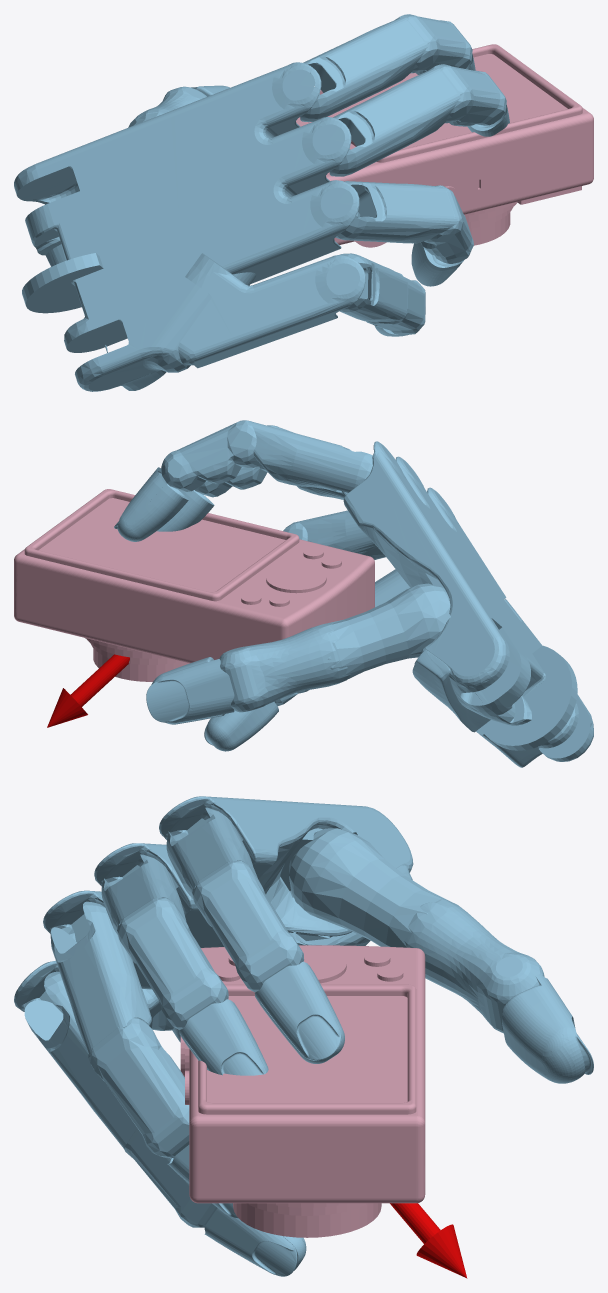
3 views of the same model, one above another, from view 1: azimuth 30°, elevation 25°; view 2: azimuth 150°, elevation 25°; view 3: azimuth 270°, elevation 25° (orthographic). The views are drawn at different scales.
Parts seen in each view (by area): view 1: world, camera.stl; view 2: world, camera.stl; view 3: world, camera.stl.
Part boxes in pixels (box(x1,y1,x2,y2)): world: box(14, 14, 509, 391); camera.stl: box(296, 44, 593, 247); world: box(47, 420, 593, 767); camera.stl: box(14, 489, 374, 681); world: box(14, 796, 593, 1278); camera.stl: box(180, 945, 425, 1237).
Bounding box in the file's own units: 0.2072 × 0.124 × 0.1592.
